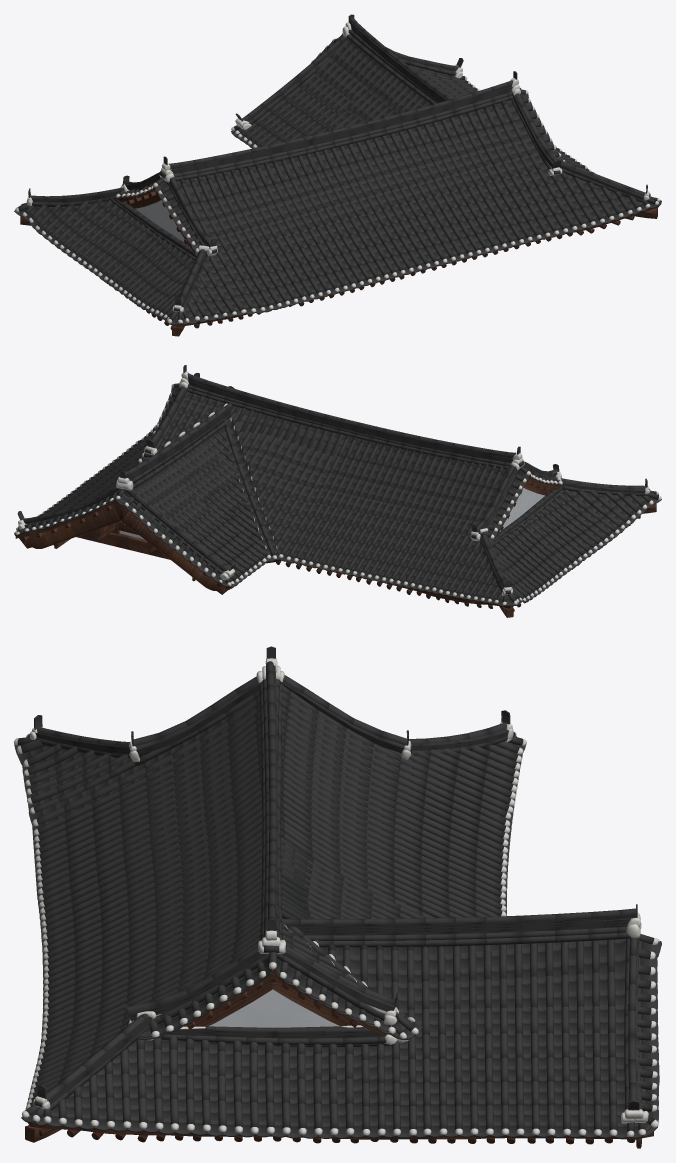
The model's file is SM_byeolju.fbx.
The picture shows the model from 3 angles, top to bottom: view 1: azimuth 30°, elevation 25°; view 2: azimuth 150°, elevation 25°; view 3: azimuth 270°, elevation 25°; orthographic projection. The views are drawn at different scales.
Visible parts, largest first — view 1: SM_byeolju; view 2: SM_byeolju; view 3: SM_byeolju.
Boxes of the visible parts, bbox=[...] form: SM_byeolju: bbox=[14, 14, 661, 336]; SM_byeolju: bbox=[14, 365, 661, 617]; SM_byeolju: bbox=[14, 646, 661, 1148].
Bounding box in the file's own units: 1773 × 1255 × 408.
3 materials, 3 textured.
